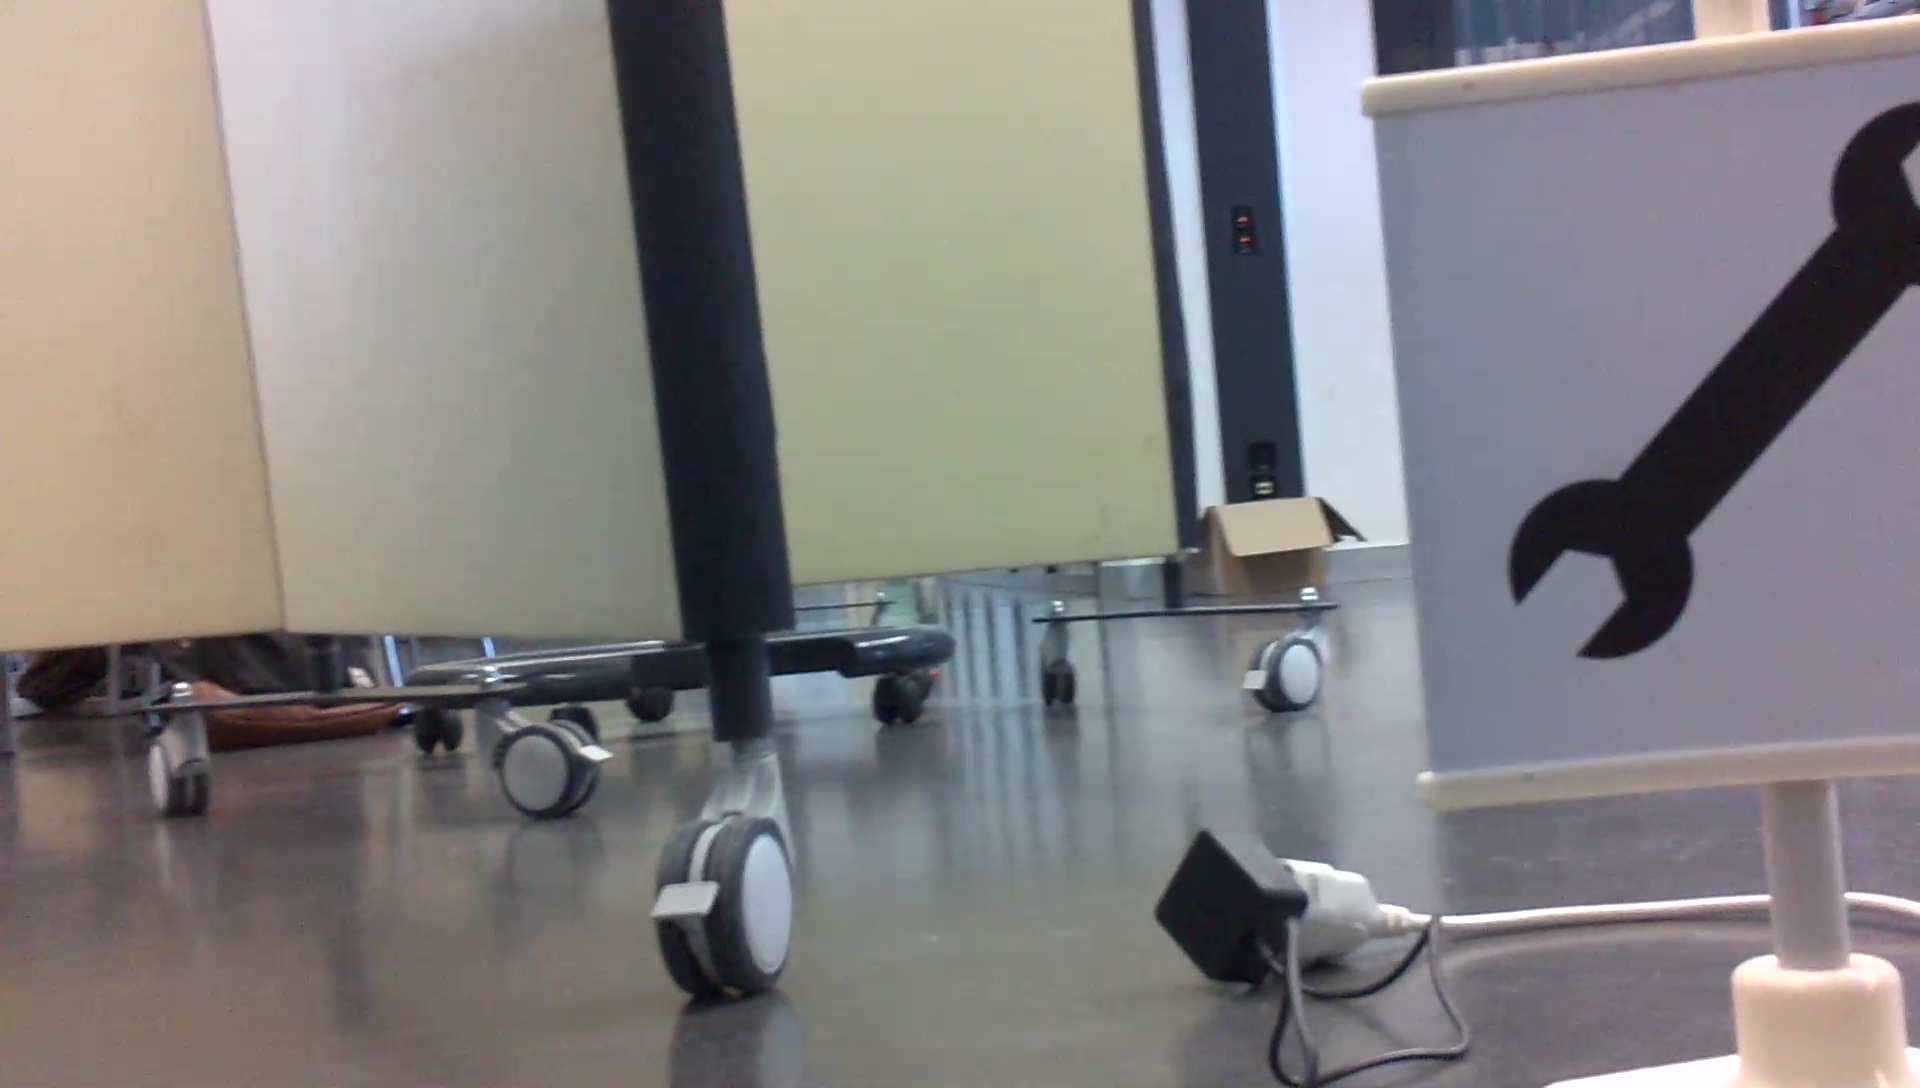wrench: (1491, 94, 1920, 666)
